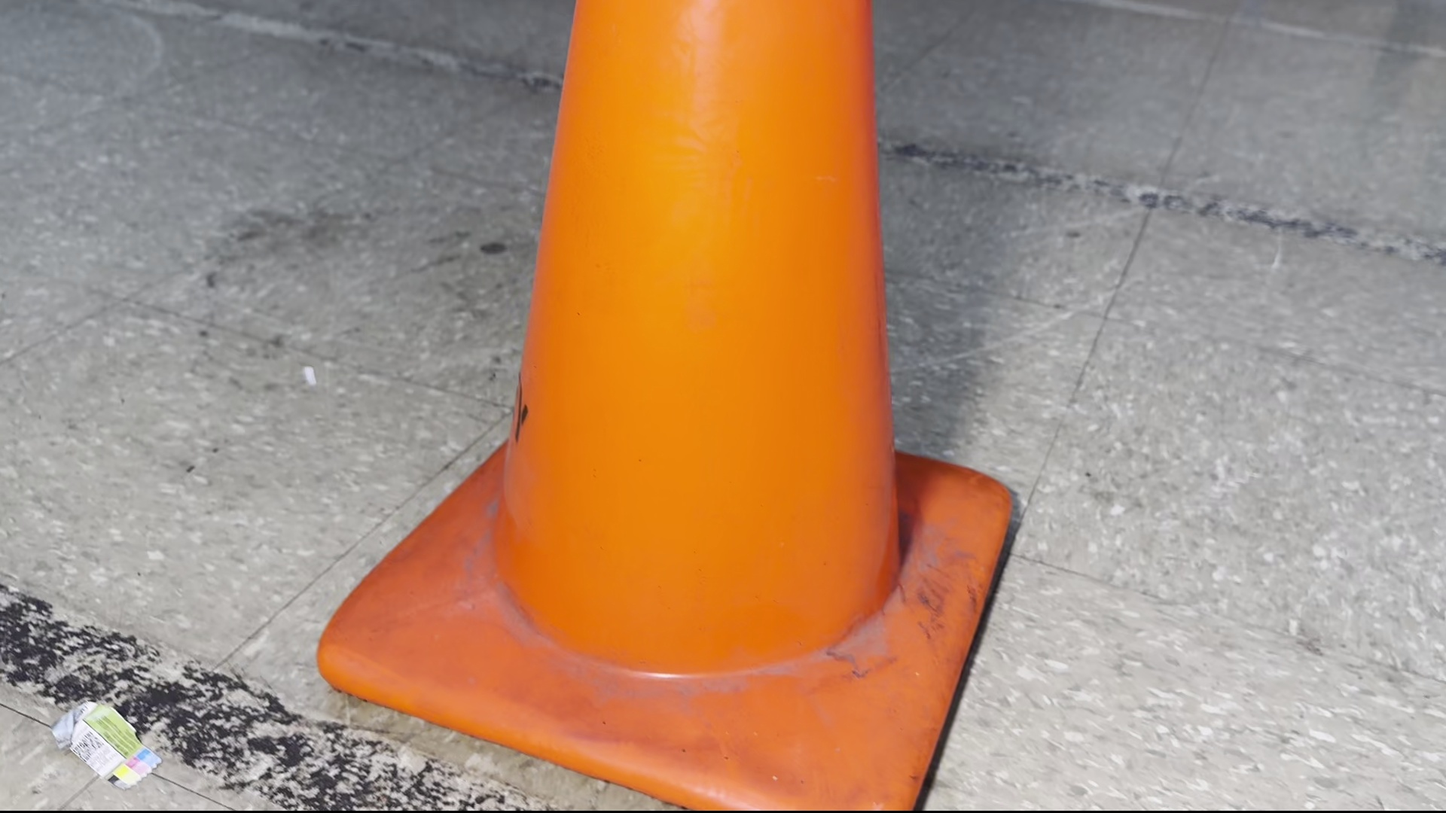traffic_cone: (315, 1, 1014, 811)
